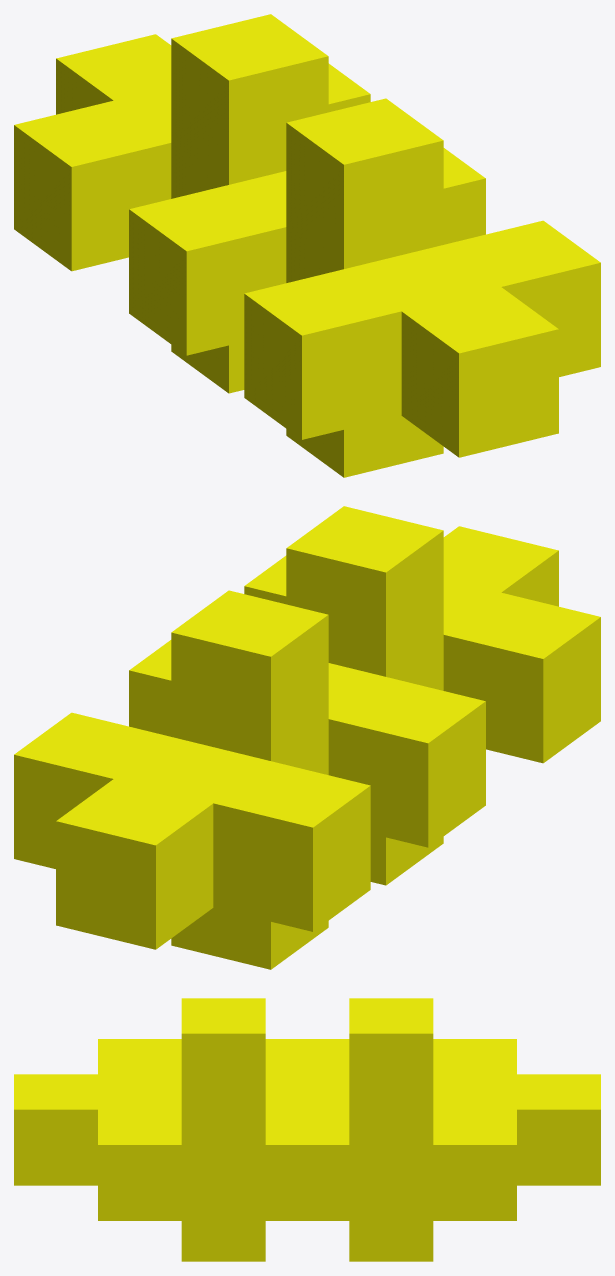
The model's file is voxel-village-tomatoes.glb.
The picture shows the model from 3 angles, top to bottom: view 1: azimuth 30°, elevation 25°; view 2: azimuth 150°, elevation 25°; view 3: azimuth 270°, elevation 25°; orthographic projection. The views are drawn at different scales.
Visible parts, largest first — view 1: VS_Villagers_Tomatos; view 2: VS_Villagers_Tomatos; view 3: VS_Villagers_Tomatos.
Part boxes in pixels (left/top/right/bottom): VS_Villagers_Tomatos: left=14, top=14, right=600, bottom=477; VS_Villagers_Tomatos: left=14, top=506, right=600, bottom=969; VS_Villagers_Tomatos: left=14, top=998, right=600, bottom=1261.
Size of the model in its own units: 0.3 by 0.3 by 0.7.
